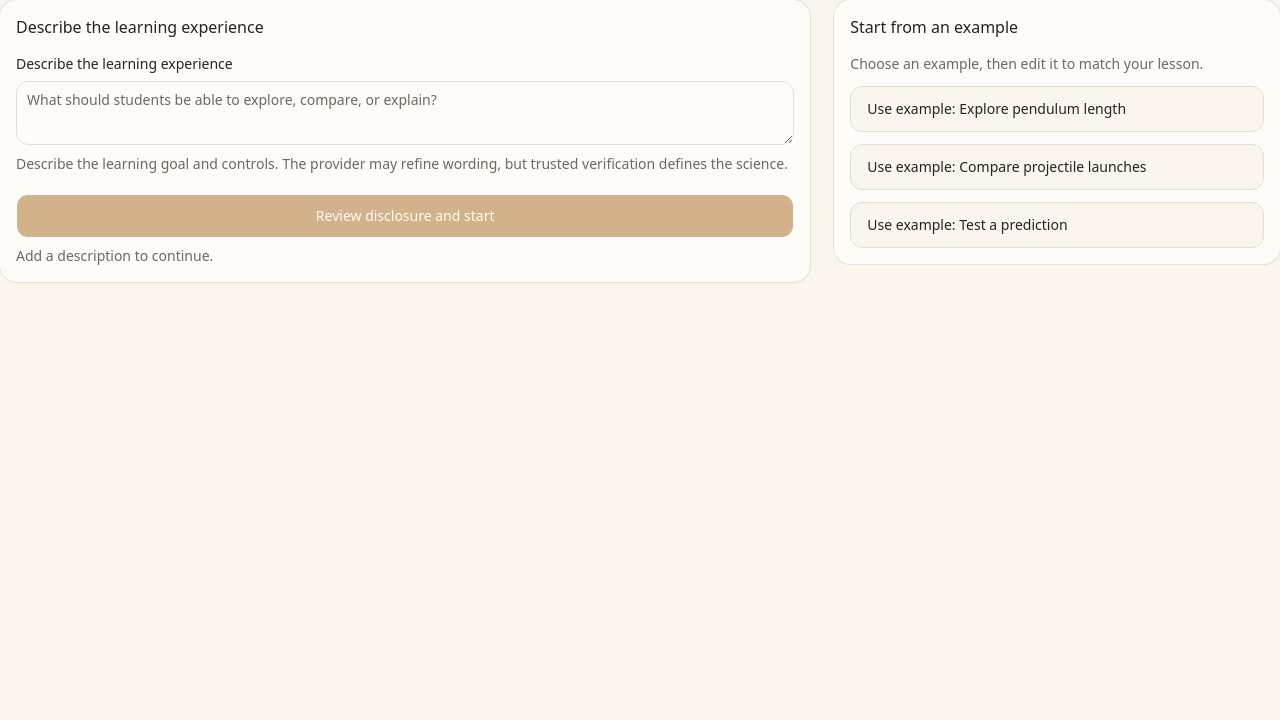
generation workspace › identifies unavailable generation services instead of blaming the version
Click the button "Use example: Test a prediction" at (1057, 225), box 850,202 -> 1264,248
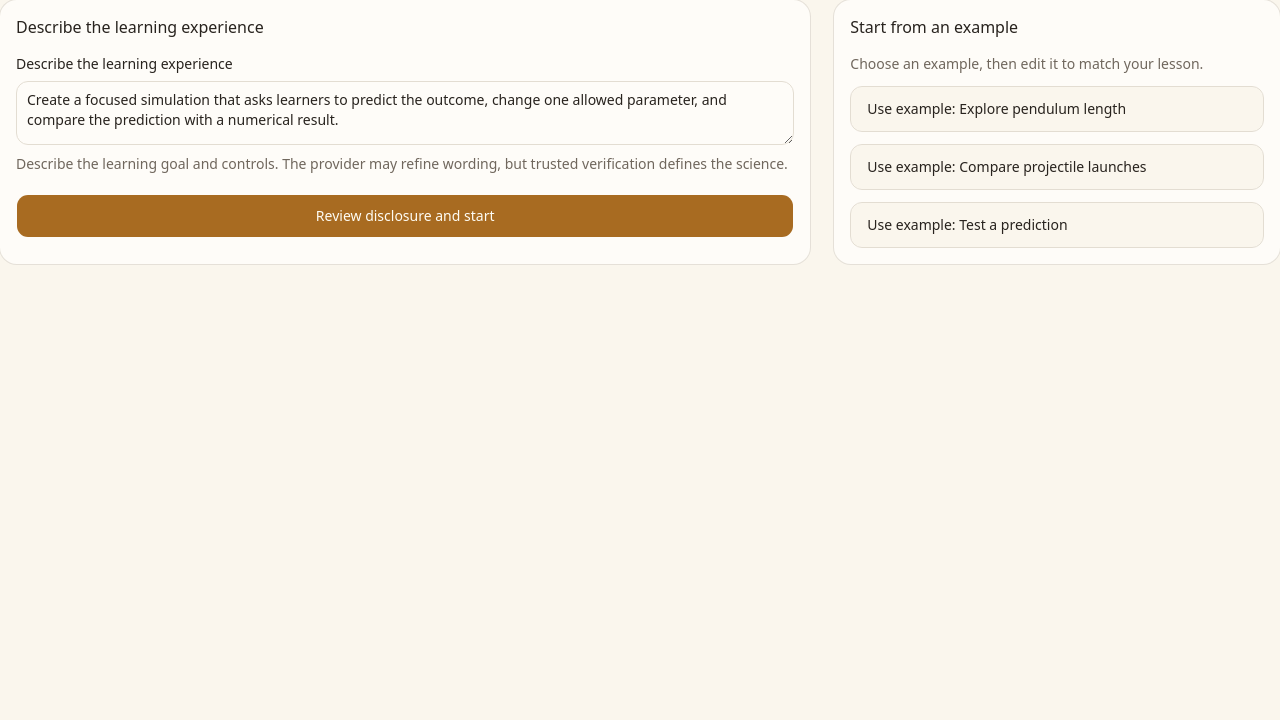
Click the button "Review disclosure and start" at (405, 216), box 16,194 -> 794,238
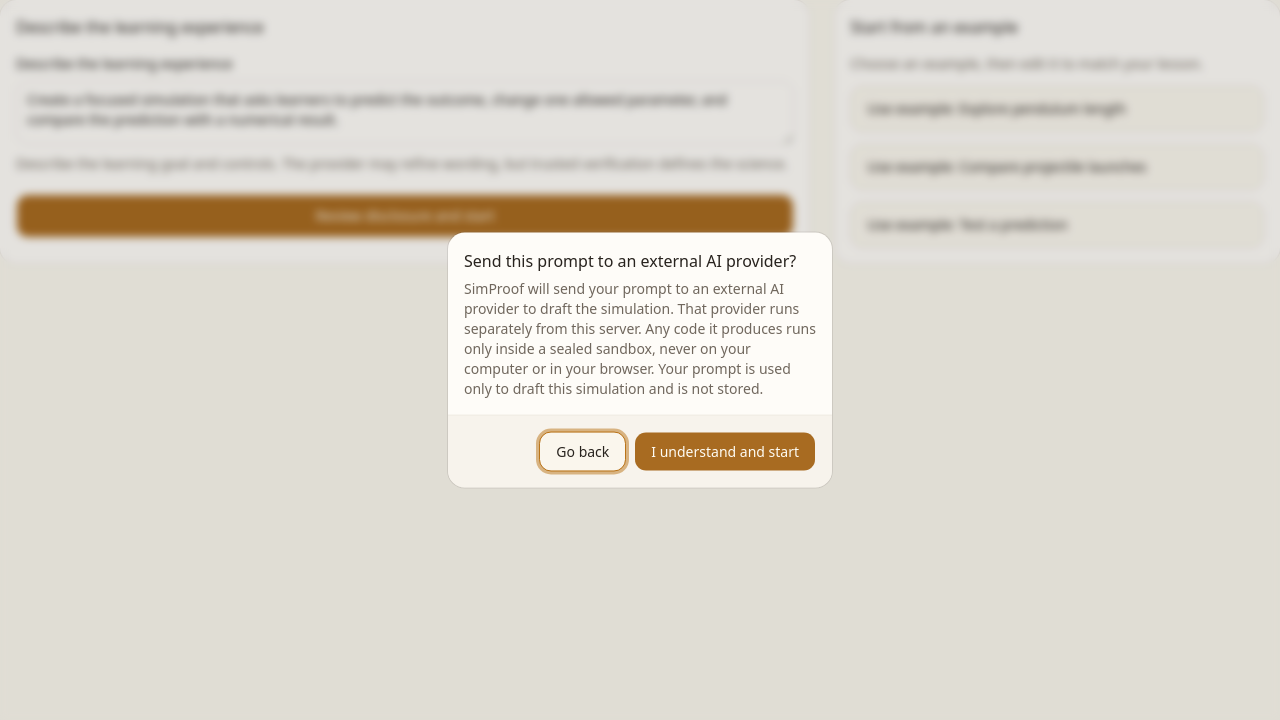
Click the button "I understand and start" at (725, 452), box 634,432 -> 816,472
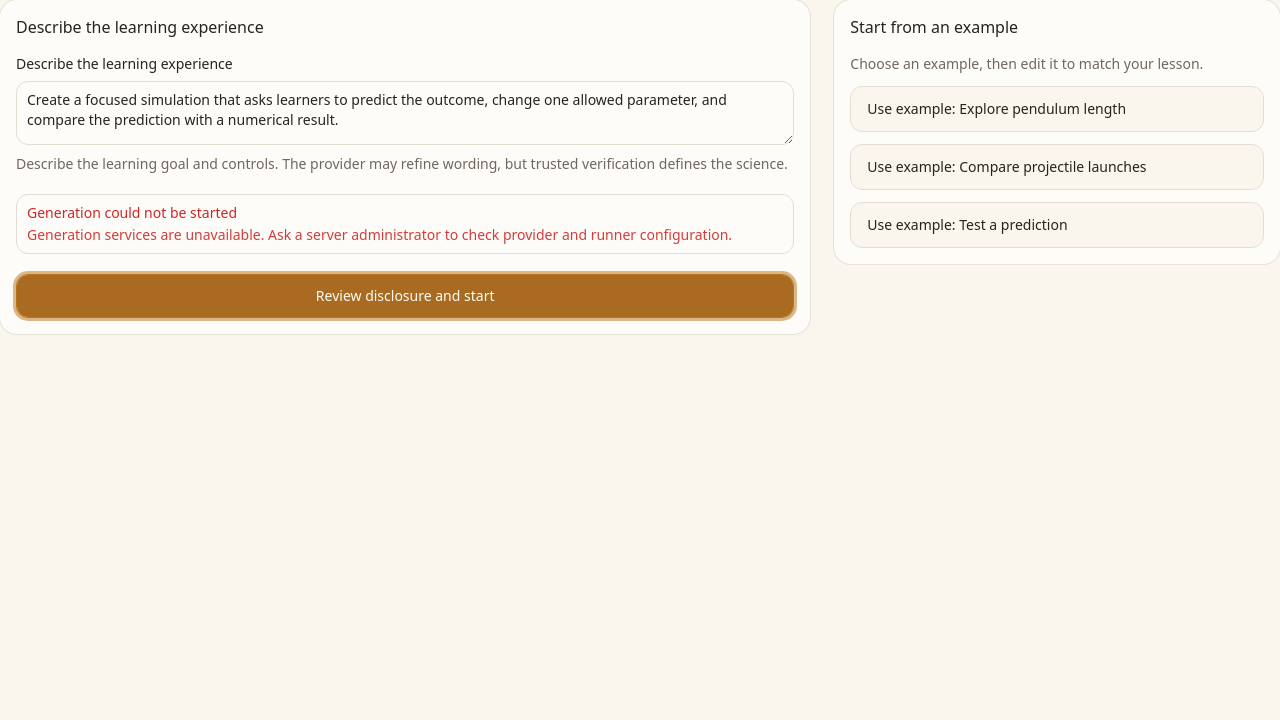
Result: the text "Ask a server administrator to check provider and runner" is shown at 27,225 -> 732,244
